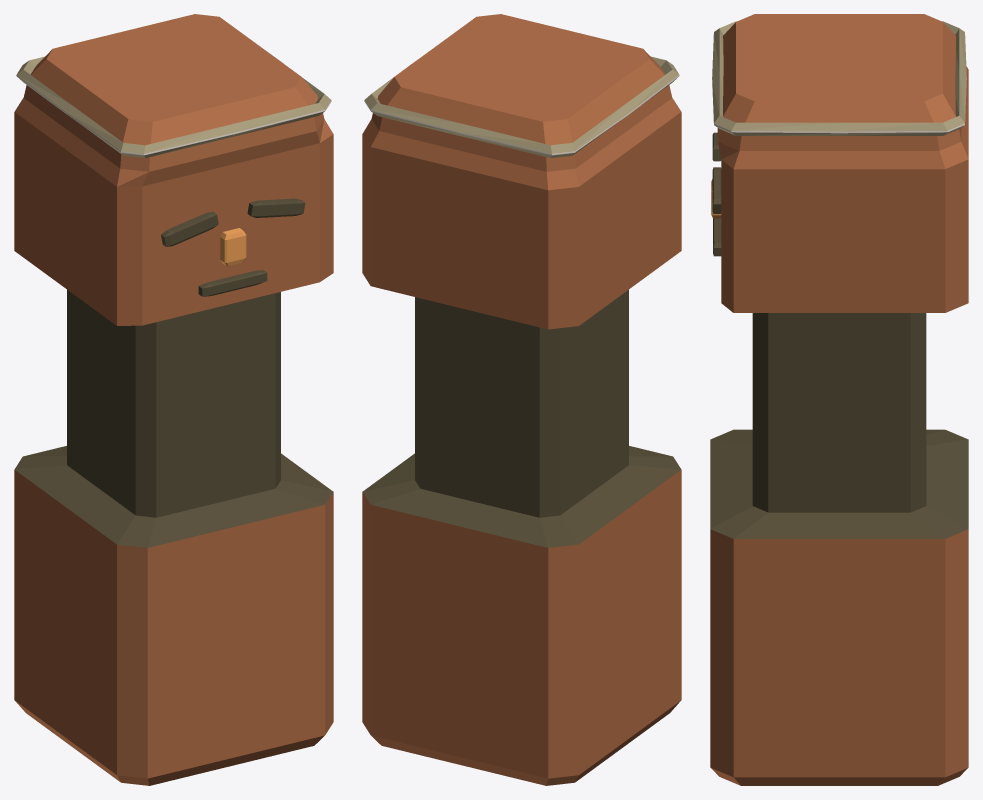
Rendered from careerMarker.glb.
3 views of the same model, side by side, from view 1: azimuth 30°, elevation 25°; view 2: azimuth 150°, elevation 25°; view 3: azimuth 270°, elevation 25° (orthographic). The views are drawn at different scales.
Parts seen in each view (by area): view 1: careerMarker; view 2: careerMarker; view 3: careerMarker.
Part boxes in pixels (box(x1,y1,x2,y2)): careerMarker: box(14, 14, 333, 785); careerMarker: box(362, 14, 681, 785); careerMarker: box(710, 14, 968, 785).
Bounding box in the file's own units: 0.28 × 0.81 × 0.28.
Materials: 1 (1 with a texture image).
